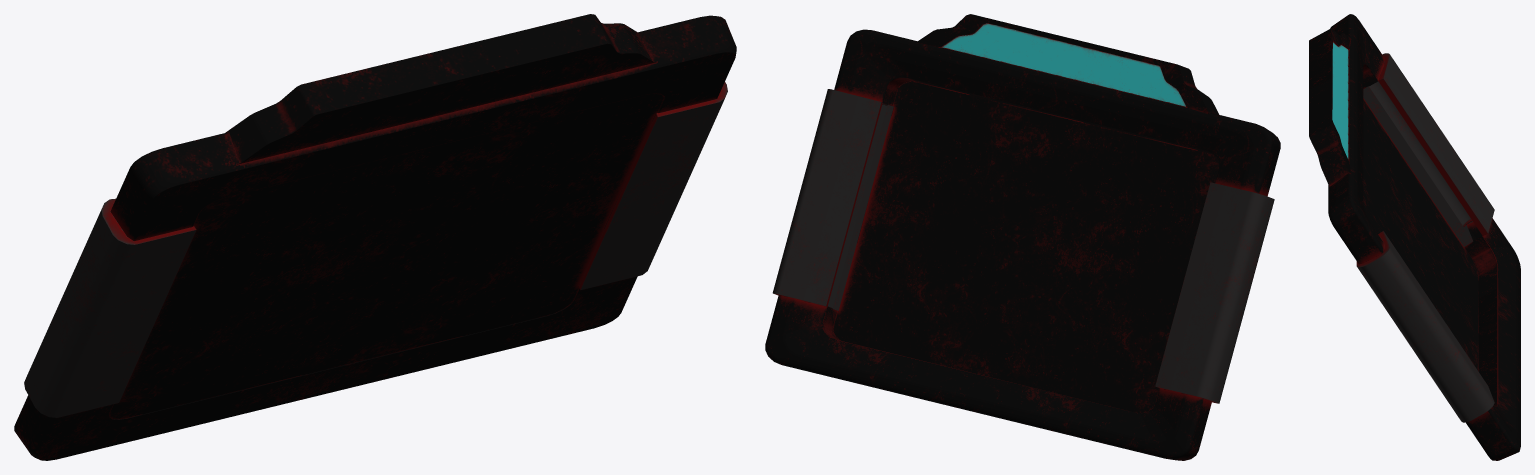
File: PDACase.fbx
The picture shows the model from 3 angles, left to right: view 1: azimuth 30°, elevation 25°; view 2: azimuth 150°, elevation 25°; view 3: azimuth 270°, elevation 25°; orthographic projection. The views are drawn at different scales.
Parts seen in each view (by area): view 1: Handle1; view 2: Handle1; view 3: Handle1.
Part boxes in pixels (bbox=[...]): Handle1: bbox=[14, 14, 736, 460]; Handle1: bbox=[765, 14, 1280, 460]; Handle1: bbox=[1309, 14, 1520, 460].
Bounding box in the file's own units: 0.2425 × 0.1636 × 0.1072.
1 material, 1 textured.
